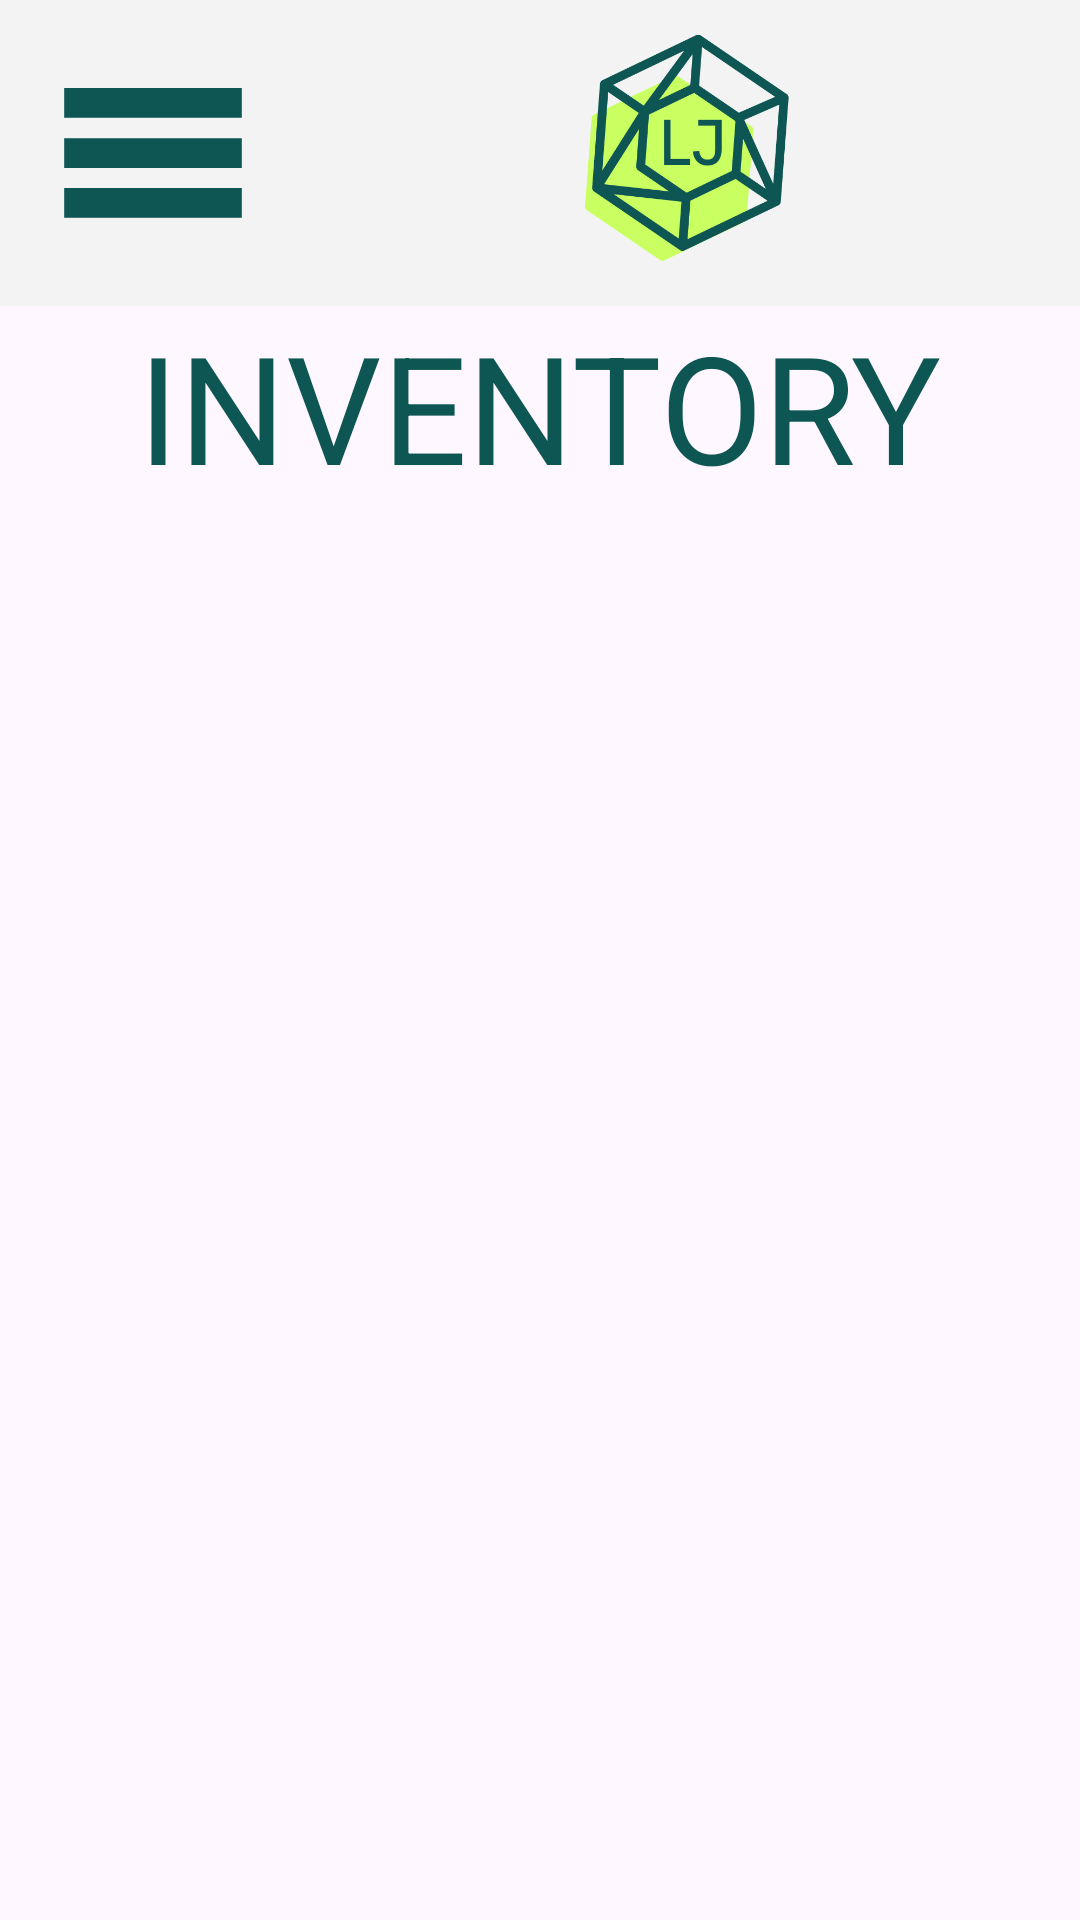

Icon bounding boxes for this 1080px x 1920px phone screenshot, format (x1, y1, x2, y2):
hamburgicon: (64, 88, 242, 218)
